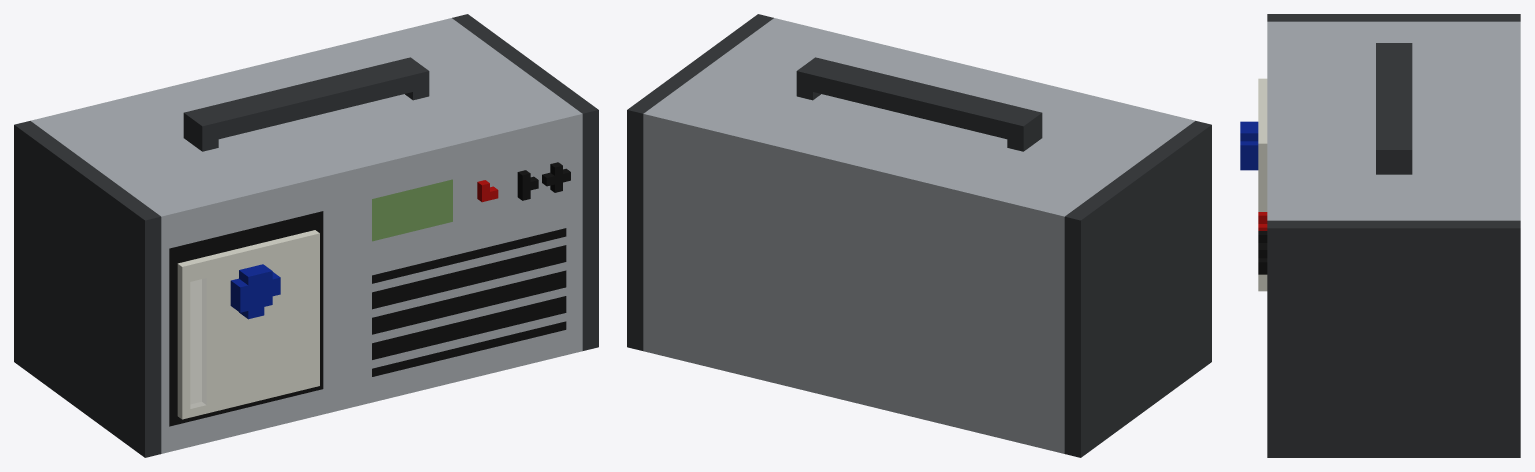
File: methanol_fuel_cell.glb
3 renders of one model, left to right at view 1: azimuth 30°, elevation 25°; view 2: azimuth 150°, elevation 25°; view 3: azimuth 270°, elevation 25°, orthographic. The views are drawn at different scales.
Parts seen in each view (by area): view 1: methanol_fuel_cell:compound; view 2: methanol_fuel_cell:compound; view 3: methanol_fuel_cell:compound.
Part boxes in pixels (x1,y1,x2,y2): methanol_fuel_cell:compound: (14,14,598,457); methanol_fuel_cell:compound: (627,14,1211,457); methanol_fuel_cell:compound: (1240,14,1520,457).
Size of the model in its own units: 0.448 by 0.256 by 0.248.
